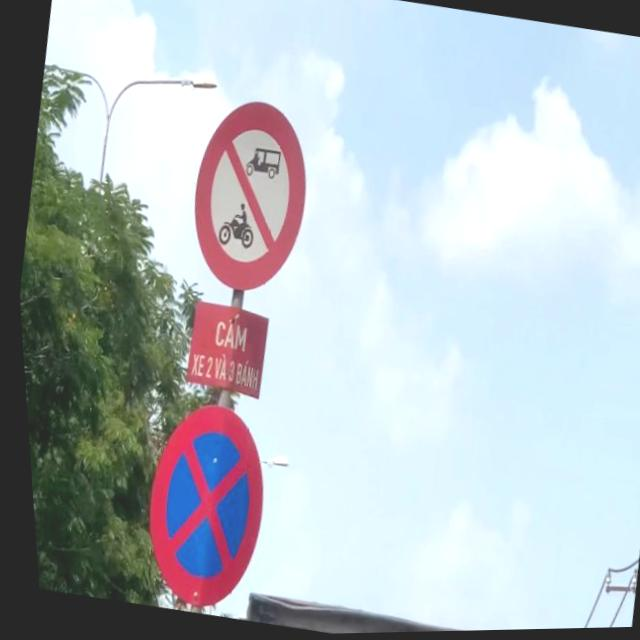Cam dung xe va do xe: (113, 384, 290, 623)
